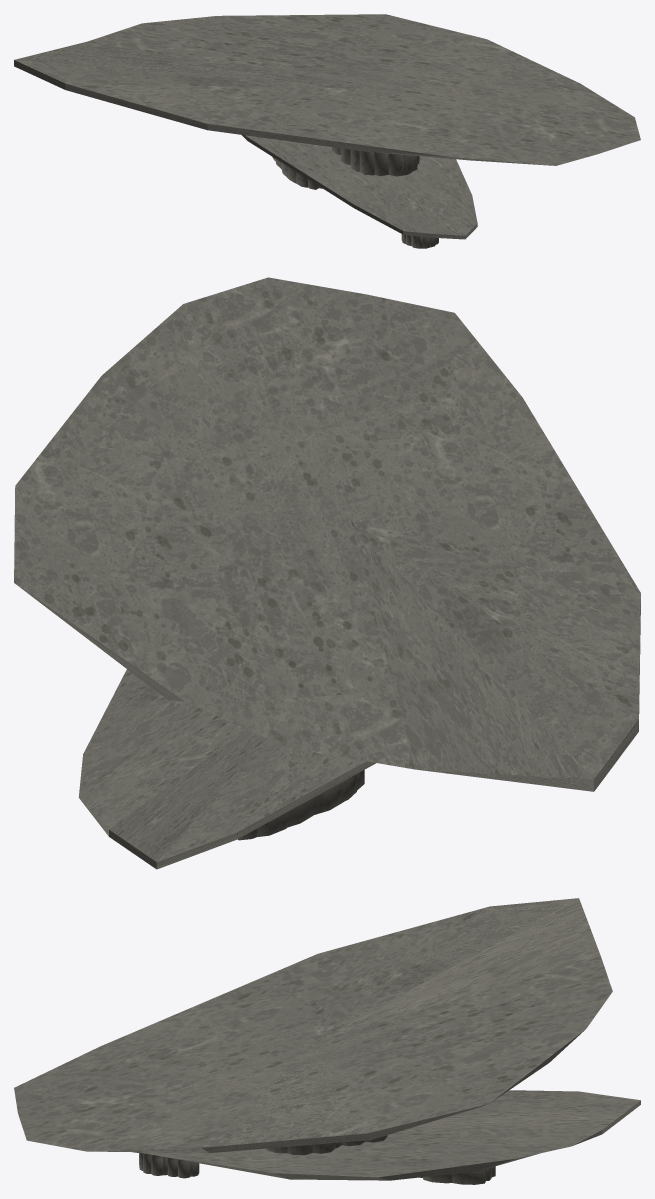
File: rock plat1.fbx
The picture shows the model from 3 angles, top to bottom: view 1: azimuth 30°, elevation 25°; view 2: azimuth 150°, elevation 25°; view 3: azimuth 270°, elevation 25°; orthographic projection. The views are drawn at different scales.
Visible parts, largest first — view 1: rock plat; view 2: rock plat; view 3: rock plat.
Part boxes in pixels (box(x1,y1,x2,y2)): rock plat: box(14, 14, 640, 248); rock plat: box(14, 277, 640, 869); rock plat: box(14, 898, 640, 1184).
Bounding box in the file's own units: 1271 × 333 × 1385.
